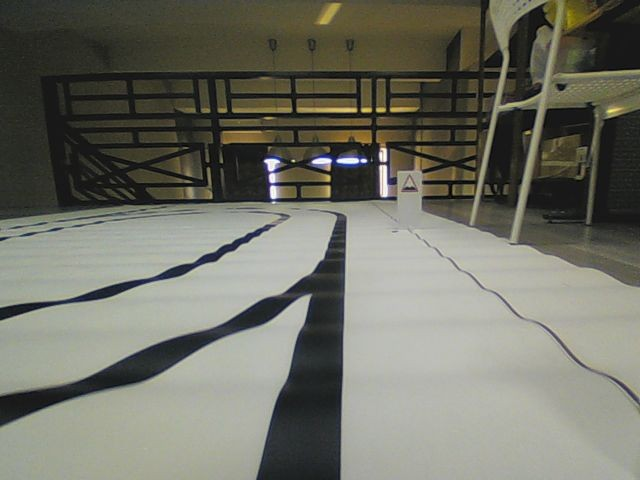Nerov: (399, 173, 419, 194)
